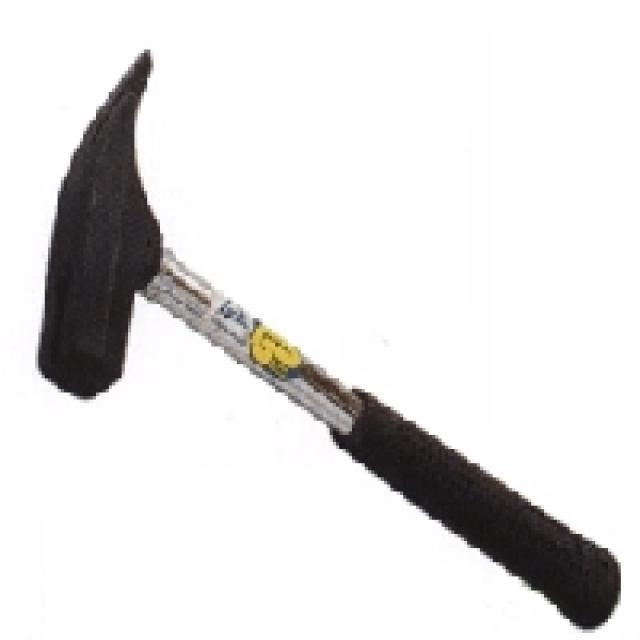hammer: (25, 36, 632, 634)
